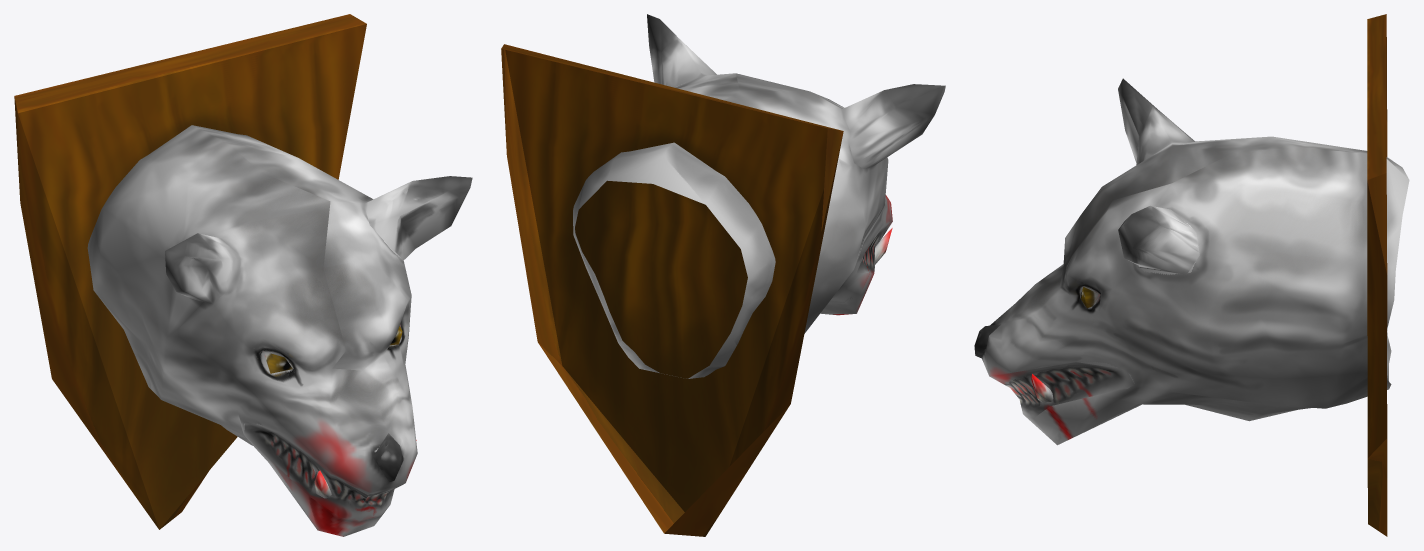
The model's file is Lobo Medium.fbx.
3 views of the same model, side by side, from view 1: azimuth 30°, elevation 25°; view 2: azimuth 150°, elevation 25°; view 3: azimuth 270°, elevation 25° (orthographic). The views are drawn at different scales.
Parts seen in each view (by area): view 1: Lobo Retopologia.001, Cube.001; view 2: Cube.001, Lobo Retopologia.001; view 3: Lobo Retopologia.001, Cube.001.
Boxes of the visible parts, box(x1,y1,x2,y2) form: Lobo Retopologia.001: box(87, 125, 472, 536); Cube.001: box(14, 14, 366, 529); Cube.001: box(501, 44, 843, 536); Lobo Retopologia.001: box(573, 14, 945, 378); Lobo Retopologia.001: box(974, 78, 1409, 445); Cube.001: box(1367, 14, 1387, 536).
Bounding box in the file's own units: 232 × 293 × 259.
